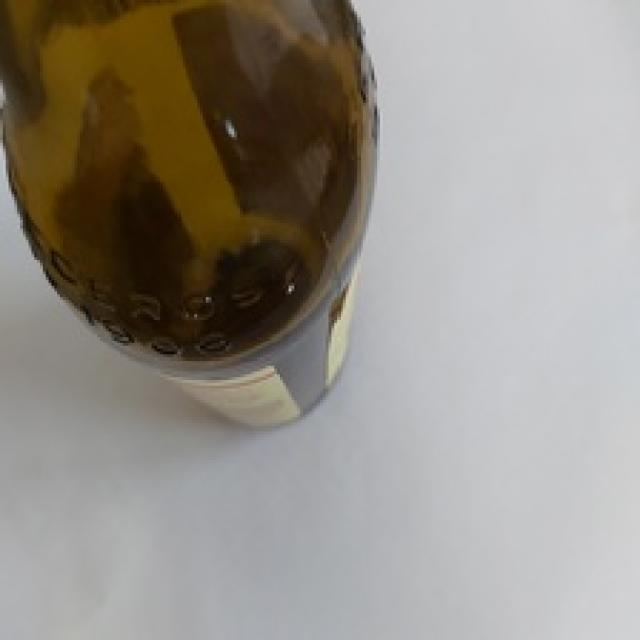Glass: (0, 0, 380, 427)
